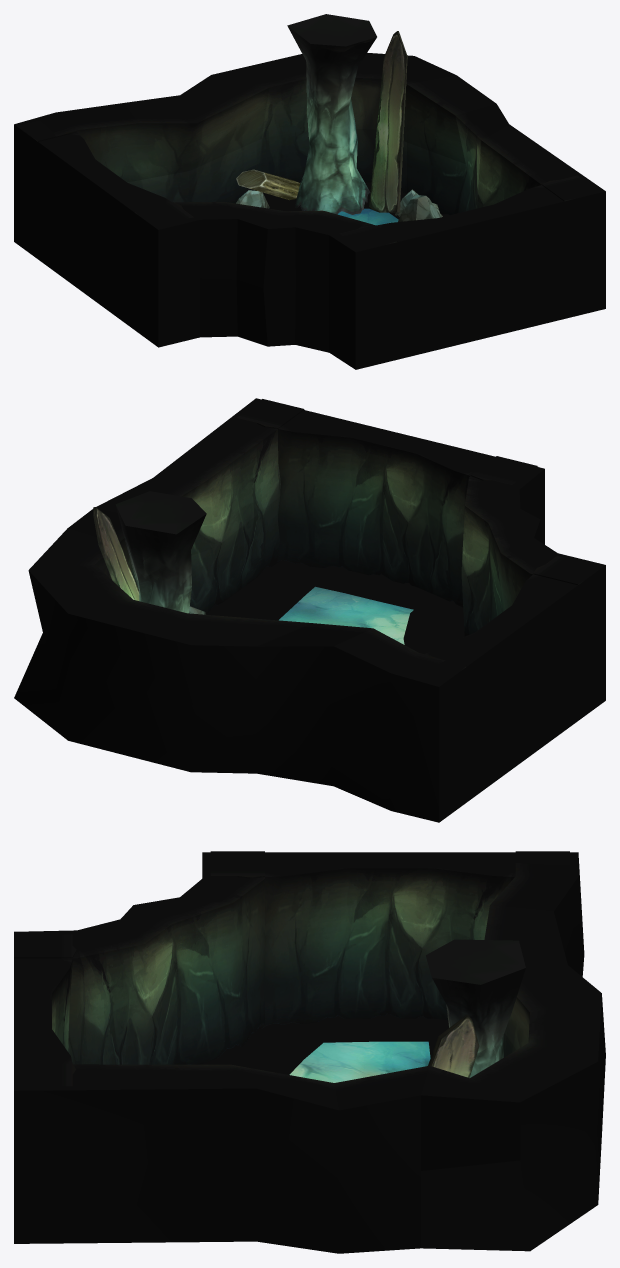
File: Dungeon_073_RoadL_003.fbx
3 renders of one model, top to bottom at view 1: azimuth 30°, elevation 25°; view 2: azimuth 150°, elevation 25°; view 3: azimuth 270°, elevation 25°, orthographic. The views are drawn at different scales.
Parts seen in each view (by area): view 1: Dun_073_RoadL_003_wall, Dun_073_Door_002 (×2), Dun_073_OB_Pillar, Dun_073_OB_Rubble, Dun_073_OB_Stone01, Dun_073_RoadL_003_shadow, Dun_073_RoadL_003_ground; view 2: Dun_073_RoadL_003_wall, Dun_073_Door_002 (×2), Dun_073_OB_Pillar, Dun_073_RoadL_003_shadow, Dun_073_RoadL_003_ground, Dun_073_Door_002_shadow, Dun_073_OB_Rubble; view 3: Dun_073_RoadL_003_wall, Dun_073_Door_002 (×2), Dun_073_OB_Pillar, Dun_073_RoadL_003_shadow, Dun_073_RoadL_003_ground, Dun_073_Door_002_shadow, Dun_073_OB_Rubble.
Part boxes in pixels (x1=…): Dun_073_RoadL_003_wall: x1=14, y1=52, x2=605, y2=369; Dun_073_Door_002 (×2): x1=18, y1=120, x2=599, y2=359; Dun_073_OB_Pillar: x1=287, y1=14, x2=376, y2=214; Dun_073_OB_Rubble: x1=236, y1=31, x2=407, y2=212; Dun_073_OB_Stone01: x1=236, y1=189, x2=442, y2=221; Dun_073_RoadL_003_shadow: x1=264, y1=182, x2=448, y2=219; Dun_073_RoadL_003_ground: x1=338, y1=208, x2=398, y2=225; Dun_073_RoadL_003_wall: x1=14, y1=398, x2=605, y2=822; Dun_073_Door_002 (×2): x1=237, y1=399, x2=601, y2=801; Dun_073_OB_Pillar: x1=115, y1=491, x2=206, y2=613; Dun_073_RoadL_003_shadow: x1=205, y1=560, x2=464, y2=654; Dun_073_RoadL_003_ground: x1=279, y1=586, x2=413, y2=644; Dun_073_Door_002_shadow: x1=315, y1=566, x2=431, y2=609; Dun_073_OB_Rubble: x1=93, y1=507, x2=139, y2=600; Dun_073_RoadL_003_wall: x1=14, y1=852, x2=605, y2=1253; Dun_073_Door_002 (×2): x1=14, y1=851, x2=569, y2=1086; Dun_073_OB_Pillar: x1=426, y1=939, x2=525, y2=1077; Dun_073_RoadL_003_shadow: x1=189, y1=1016, x2=448, y2=1074; Dun_073_RoadL_003_ground: x1=289, y1=1041, x2=430, y2=1082; Dun_073_Door_002_shadow: x1=324, y1=1013, x2=430, y2=1042; Dun_073_OB_Rubble: x1=428, y1=1015, x2=479, y2=1077.
Size of what is drawn, in the model's own units: 7.21 by 3 by 7.08.
